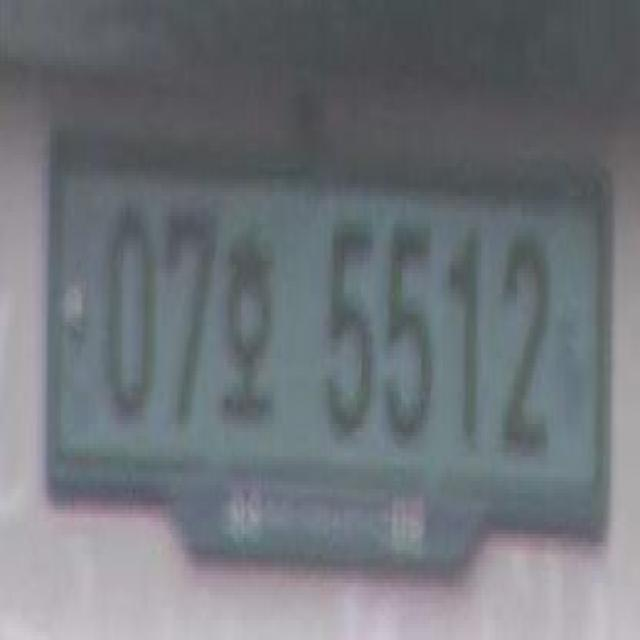EV_plate: (34, 116, 625, 572)
